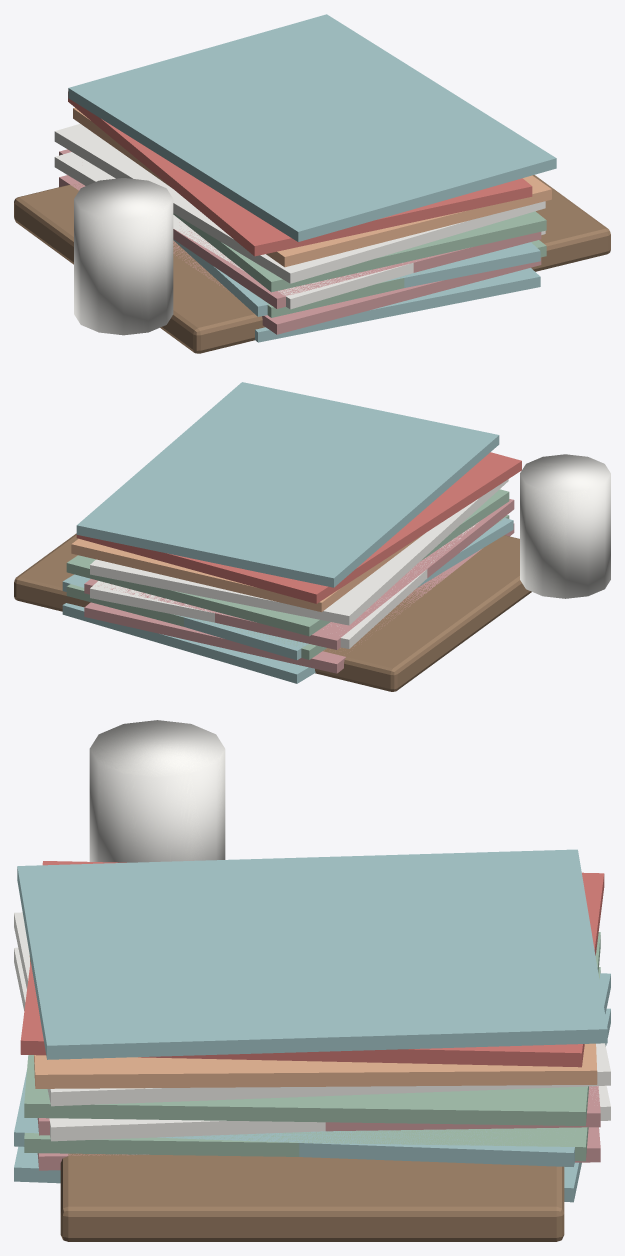
The model's file is Gear09.fbx.
3 views of the same model, one above another, from view 1: azimuth 30°, elevation 25°; view 2: azimuth 150°, elevation 25°; view 3: azimuth 270°, elevation 25° (orthographic). The views are drawn at different scales.
Visible parts, largest first — view 1: Gear09_V10_Blue, Gear09_V10_Quartz, Gear09_V10_Walnut, Gear09_V10_Crimson, Gear09_V10_Paper, Gear09_V10_Sage, Gear09_V10_Apricot, Gear09_V1_Rose, Gear09_V10_Rose, Gear09_V1_Blue, Gear09_V4_Paper, Gear09_V7_Paper (+1 smaller); view 2: Gear09_V10_Blue, Gear09_V10_Walnut, Gear09_V10_Quartz, Gear09_V10_Crimson, Gear09_V10_Paper, Gear09_V7_Paper, Gear09_V10_Rose, Gear09_V10_Sage, Gear09_V1_Rose, Gear09_V10_Apricot, Gear09_V4_Paper, Gear09_V1_Blue (+1 smaller); view 3: Gear09_V10_Blue, Gear09_V10_Walnut, Gear09_V10_Quartz, Gear09_V10_Sage, Gear09_V10_Apricot, Gear09_V2_Sage, Gear09_V10_Crimson, Gear09_V10_Paper, Gear09_V7_Paper, Gear09_V4_Paper, Gear09_V10_Rose, Gear09_V1_Blue (+1 smaller).
Part boxes in pixels (bbox=[...]): Gear09_V10_Blue: bbox=[68, 14, 556, 316]; Gear09_V10_Quartz: bbox=[74, 178, 173, 335]; Gear09_V10_Walnut: bbox=[14, 175, 610, 353]; Gear09_V10_Crimson: bbox=[68, 91, 532, 256]; Gear09_V10_Paper: bbox=[54, 123, 545, 283]; Gear09_V10_Sage: bbox=[173, 211, 546, 292]; Gear09_V10_Apricot: bbox=[73, 108, 551, 267]; Gear09_V1_Rose: bbox=[59, 175, 541, 334]; Gear09_V10_Rose: bbox=[59, 149, 541, 308]; Gear09_V1_Blue: bbox=[254, 268, 540, 342]; Gear09_V4_Paper: bbox=[54, 152, 545, 309]; Gear09_V7_Paper: bbox=[74, 178, 172, 334]; Gear09_V10_Blue: bbox=[62, 382, 513, 660]; Gear09_V10_Walnut: bbox=[14, 533, 531, 691]; Gear09_V10_Quartz: bbox=[520, 454, 610, 598]; Gear09_V10_Crimson: bbox=[76, 452, 521, 603]; Gear09_V10_Paper: bbox=[90, 479, 508, 625]; Gear09_V7_Paper: bbox=[520, 454, 596, 598]; Gear09_V10_Rose: bbox=[84, 499, 514, 649]; Gear09_V10_Sage: bbox=[66, 489, 509, 636]; Gear09_V1_Rose: bbox=[84, 523, 514, 673]; Gear09_V10_Apricot: bbox=[71, 534, 423, 612]; Gear09_V4_Paper: bbox=[90, 522, 478, 648]; Gear09_V1_Blue: bbox=[62, 603, 315, 683]; Gear09_V10_Blue: bbox=[14, 849, 610, 1166]; Gear09_V10_Walnut: bbox=[60, 1153, 564, 1241]; Gear09_V10_Quartz: bbox=[89, 720, 225, 862]; Gear09_V10_Sage: bbox=[24, 932, 600, 1125]; Gear09_V10_Apricot: bbox=[29, 956, 597, 1088]; Gear09_V2_Sage: bbox=[24, 967, 600, 1161]; Gear09_V10_Crimson: bbox=[20, 861, 604, 1067]; Gear09_V10_Paper: bbox=[14, 912, 610, 1106]; Gear09_V7_Paper: bbox=[90, 720, 225, 862]; Gear09_V4_Paper: bbox=[14, 947, 610, 1141]; Gear09_V10_Rose: bbox=[37, 1086, 600, 1135]; Gear09_V1_Blue: bbox=[14, 1008, 610, 1202].
Size of the model in its own units: 40.5 by 11 by 30.81.
